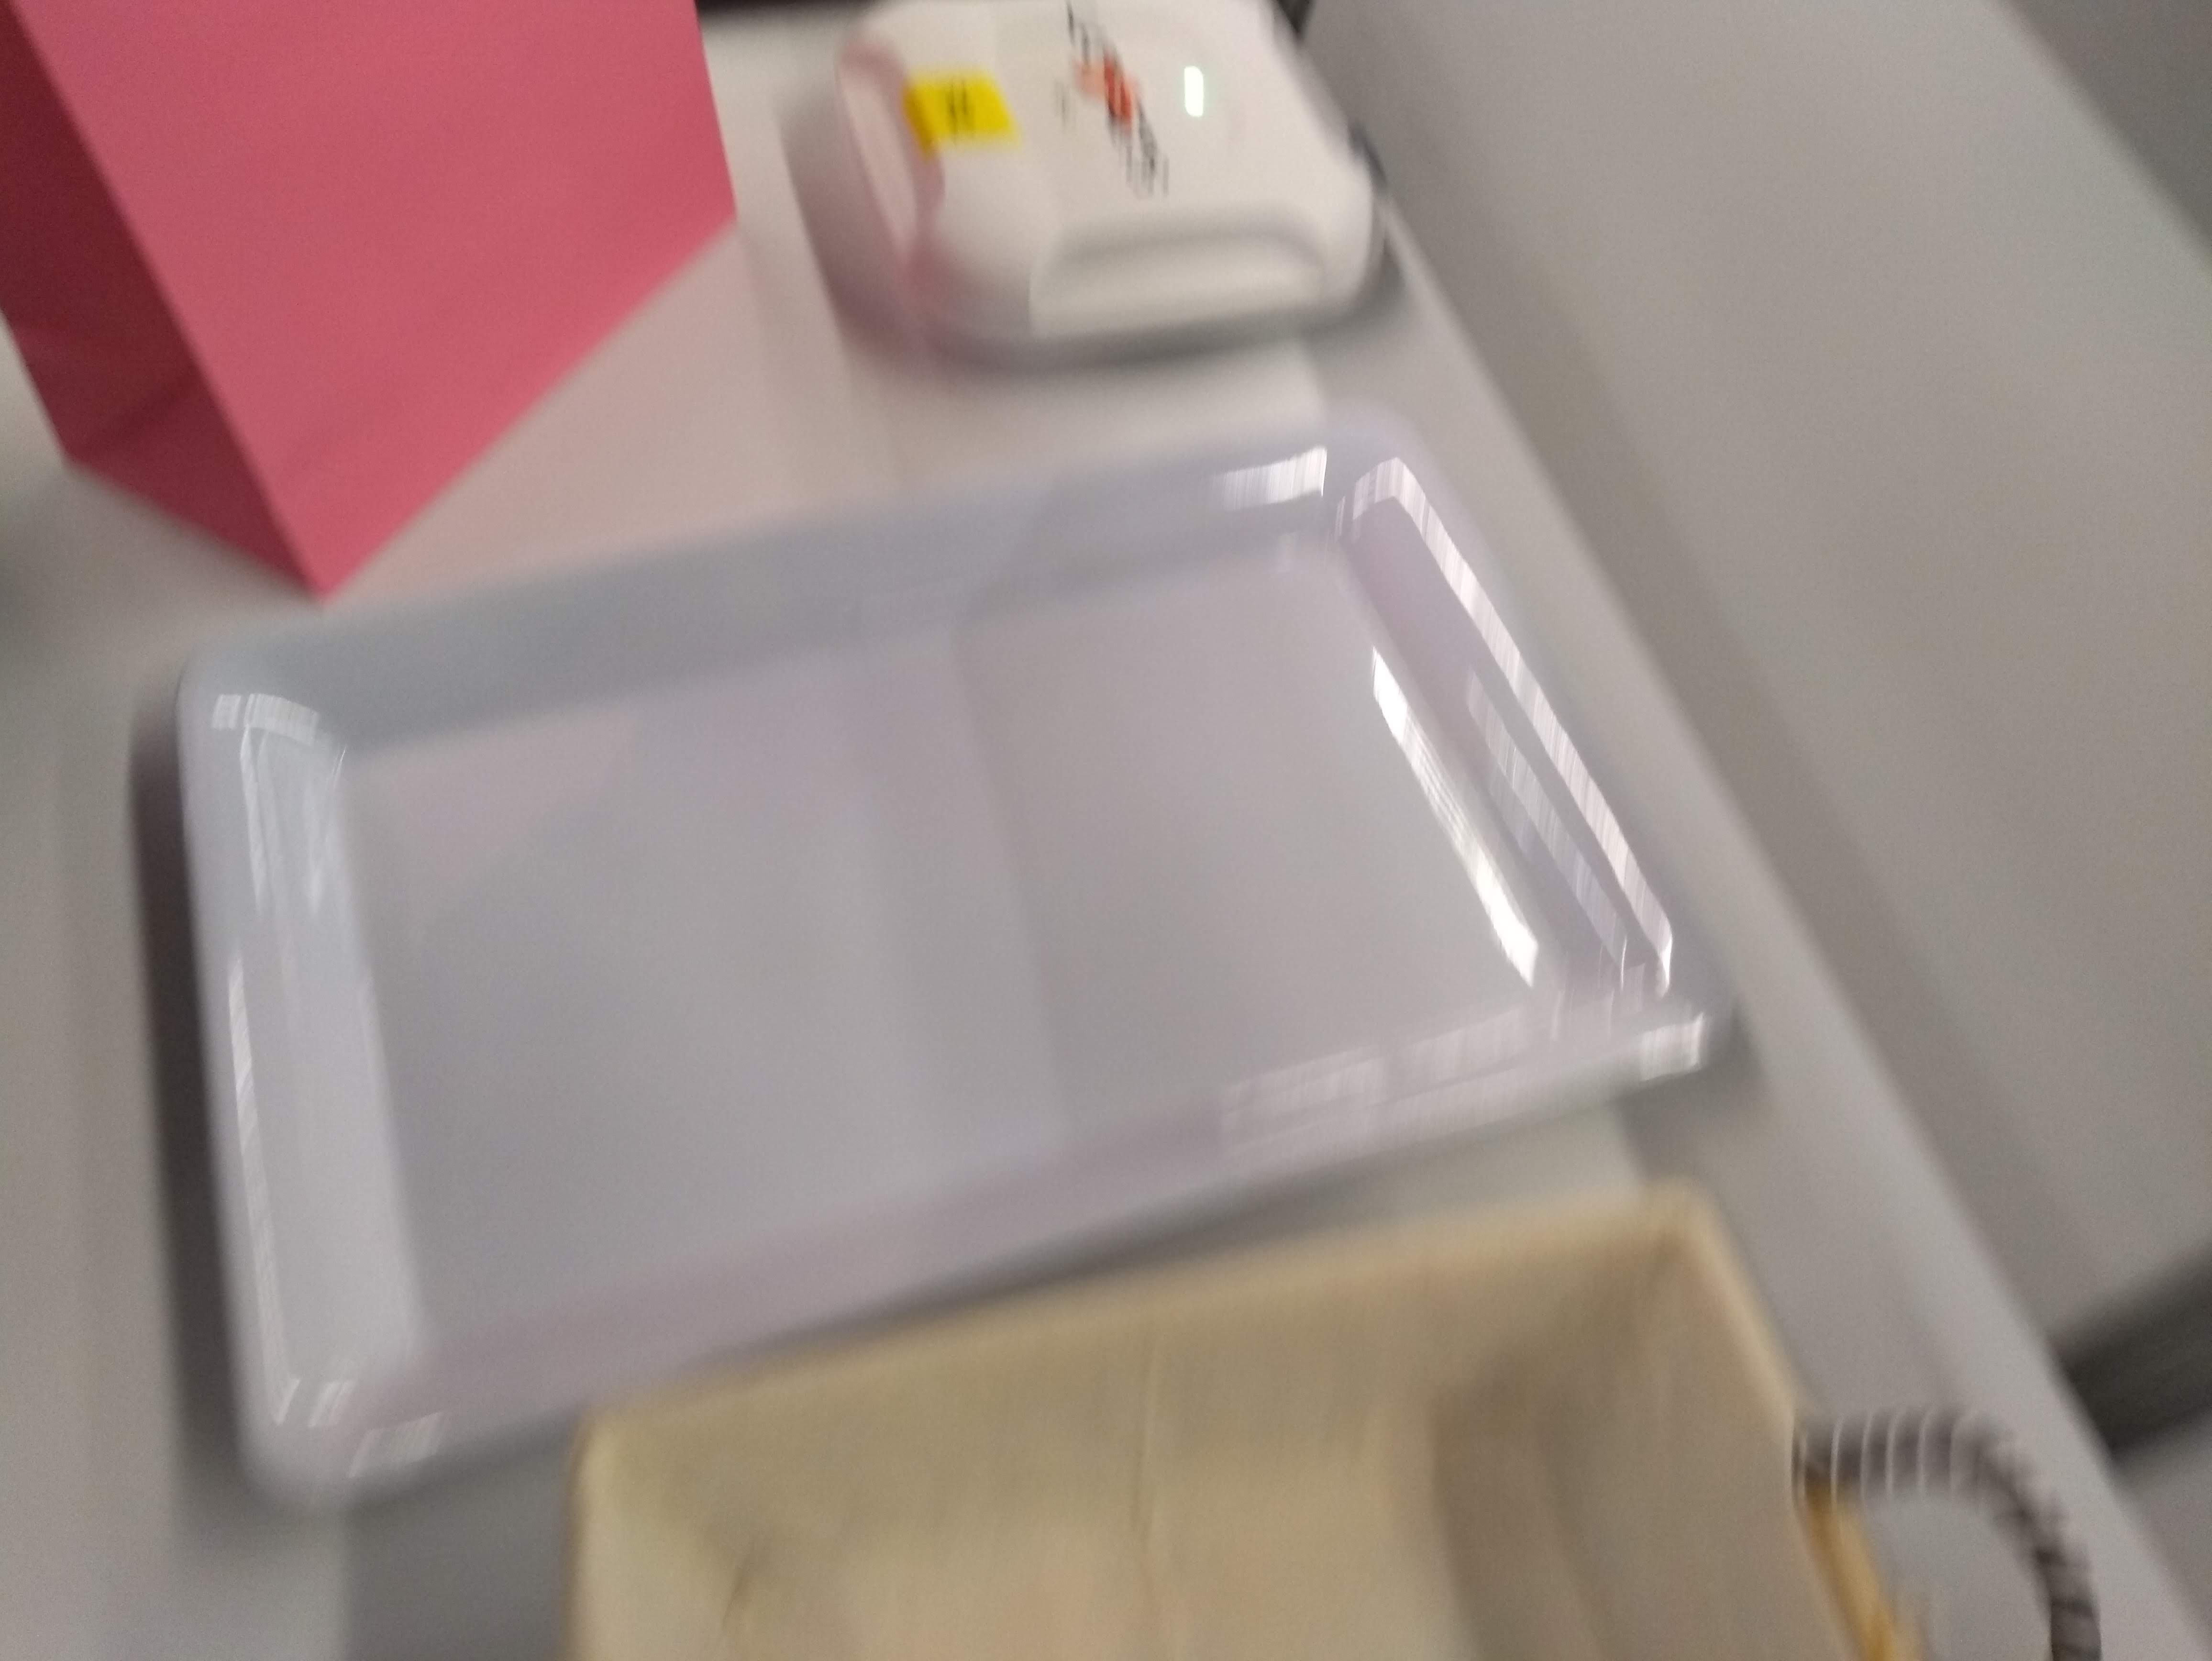help_me_carry_opl: (3, 0, 761, 591)
tray: (127, 426, 1778, 1387)
